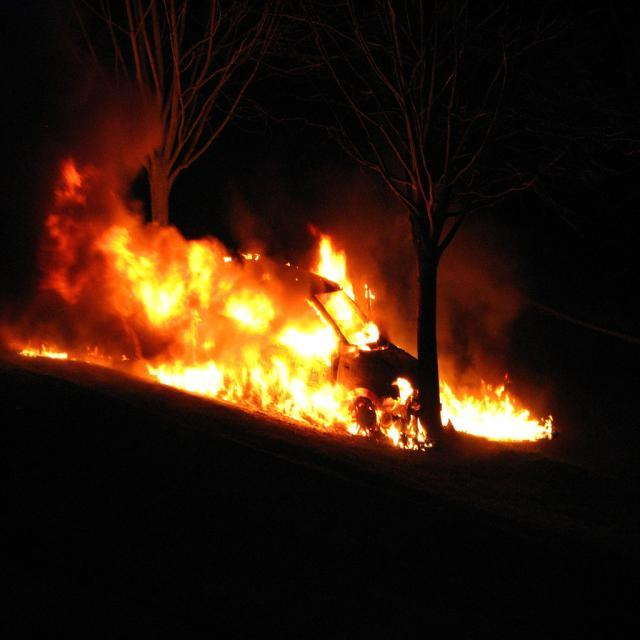Fire: (119, 240, 215, 330), (270, 318, 338, 424), (444, 398, 542, 442), (160, 355, 232, 402)
